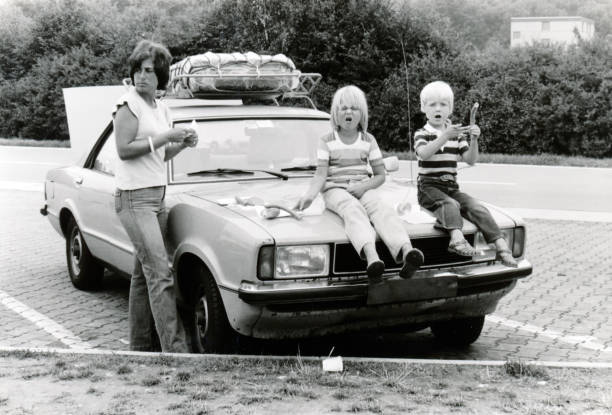without mask: (419, 84, 455, 127), (331, 91, 367, 134), (131, 49, 167, 92)
